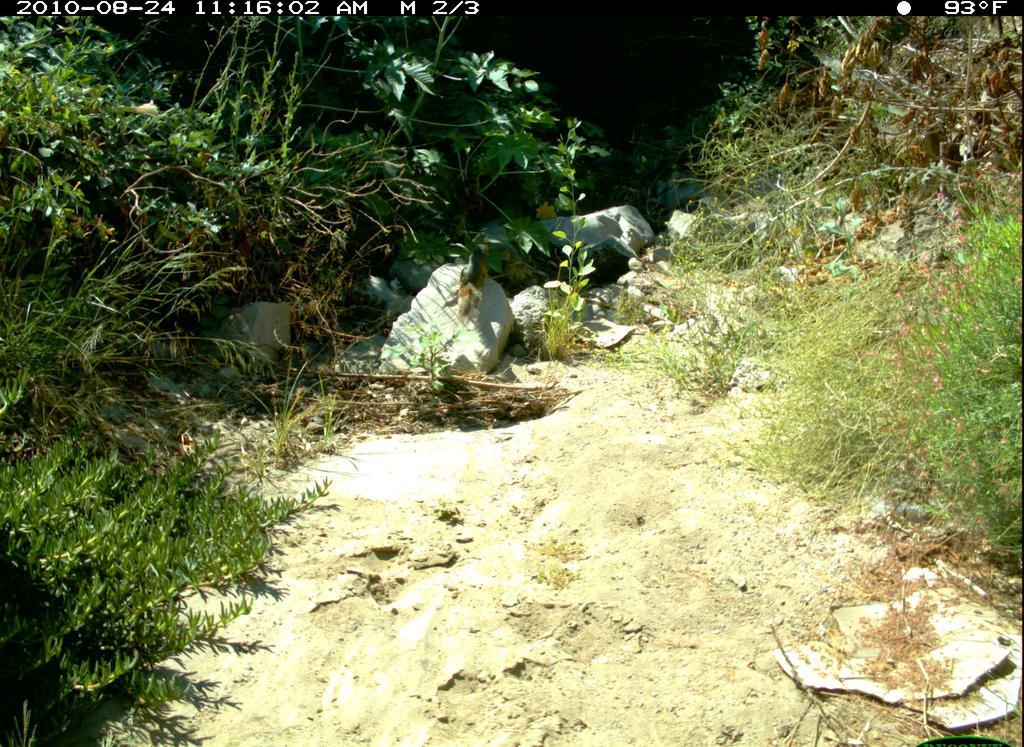squirrel: (438, 235, 506, 323)
